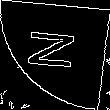N_E: (25, 32, 85, 78)
